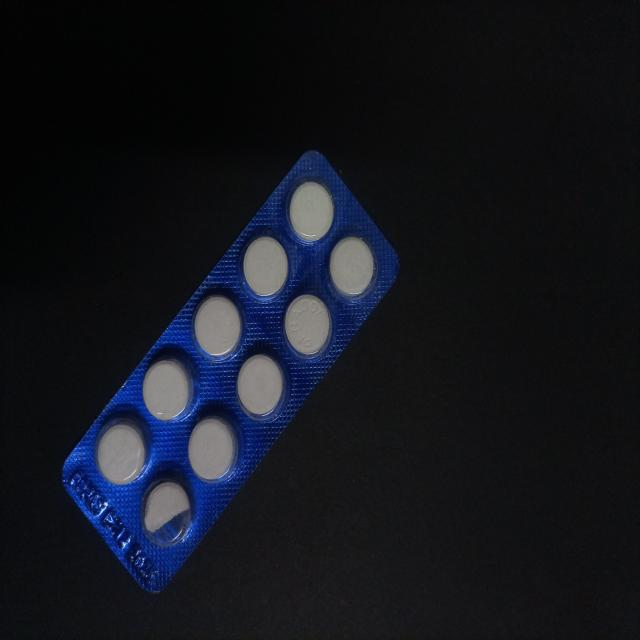defect: (140, 476, 195, 550)
